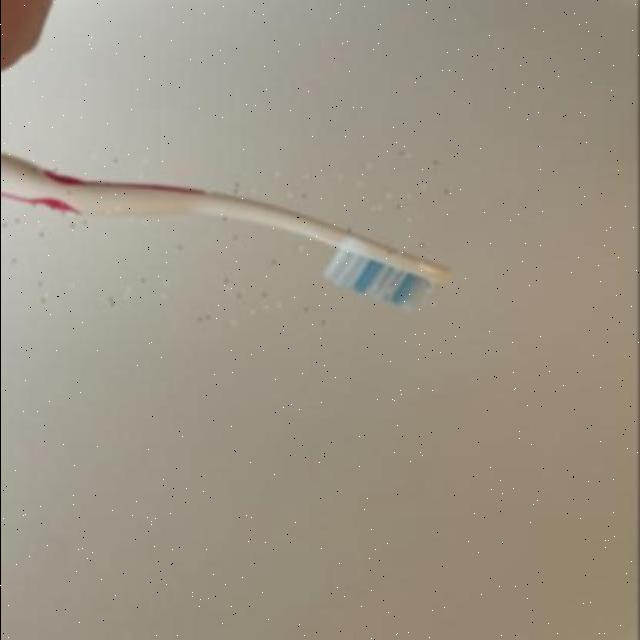toothbrush: (1, 145, 462, 323)
